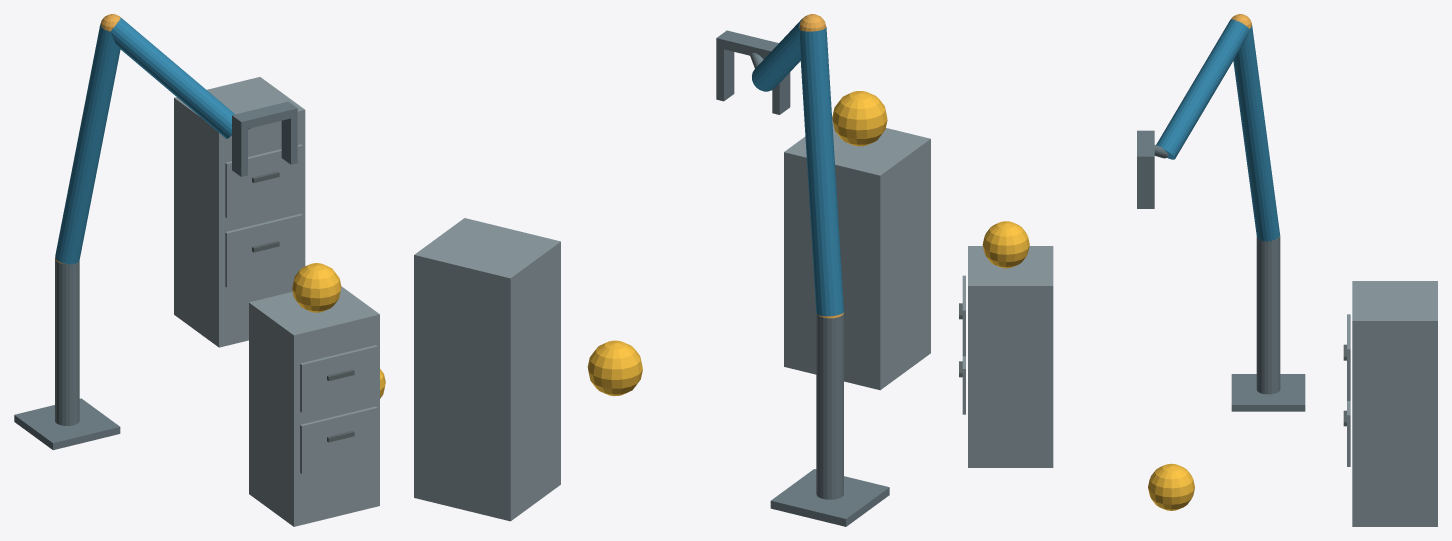
3 renders of one model, left to right at view 1: azimuth 30°, elevation 25°; view 2: azimuth 150°, elevation 25°; view 3: azimuth 270°, elevation 25°, orthographic. The views are drawn at different scales.
Visible parts, largest first — view 1: cabinet_1 body, cabinet_2 body, moving link 1, cabinet_2 drawer front, fixed post, moving link 2, cabinet_2 drawer front.001, cabinet_1 drawer front, cabinet_1 drawer front.001, pedestal, released ball_1, gripper bridge (+2 smaller); view 2: cabinet_2 body, cabinet_1 body, moving link 1, fixed post, pedestal, ball ball_2, released ball_1, moving link 2, gripper bridge, gripper finger 1, gripper finger -1; view 3: cabinet_2 body, cabinet_1 body, moving link 1, fixed post, moving link 2, pedestal, released ball_1, ball ball_2, gripper finger 1, gripper bridge.
Part boxes in pixels (left/top/right/bottom): cabinet_1 body: left=249, top=286, right=379, bottom=526; cabinet_2 body: left=174, top=77, right=305, bottom=347; moving link 1: left=55, top=23, right=120, bottom=264; cabinet_2 drawer front: left=225, top=213, right=302, bottom=287; fixed post: left=55, top=260, right=79, bottom=425; moving link 2: left=110, top=17, right=234, bottom=138; cabinet_2 drawer front.001: left=225, top=144, right=302, bottom=218; cabinet_1 drawer front: left=300, top=406, right=377, bottom=473; cabinet_1 drawer front.001: left=300, top=345, right=377, bottom=412; pedestal: left=14, top=398, right=120, bottom=450; released ball_1: left=292, top=263, right=341, bottom=312; gripper bridge: left=232, top=101, right=297, bottom=130; cabinet_2 body: left=414, top=218, right=560, bottom=521; cabinet_1 body: left=784, top=117, right=930, bottom=390; moving link 1: left=799, top=26, right=843, bottom=316; fixed post: left=816, top=313, right=843, bottom=499; pedestal: left=770, top=469, right=889, bottom=526; ball ball_2: left=587, top=340, right=642, bottom=396; released ball_1: left=832, top=91, right=887, bottom=146; moving link 2: left=752, top=18, right=802, bottom=91; gripper bridge: left=716, top=30, right=778, bottom=58; gripper finger 1: left=716, top=47, right=734, bottom=101; gripper finger -1: left=772, top=72, right=790, bottom=114; cabinet_2 body: left=1352, top=281, right=1437, bottom=526; cabinet_1 body: left=968, top=246, right=1053, bottom=467; moving link 1: left=1233, top=25, right=1279, bottom=241; fixed post: left=1256, top=236, right=1280, bottom=394; moving link 2: left=1156, top=19, right=1249, bottom=159; pedestal: left=1231, top=374, right=1305, bottom=411; released ball_1: left=982, top=221, right=1029, bottom=268; ball ball_2: left=1148, top=463, right=1194, bottom=510; gripper finger 1: left=1137, top=165, right=1154, bottom=208; gripper bridge: left=1137, top=130, right=1154, bottom=164.
Bounding box in the file's own units: 1.17 × 1.48 × 1.62.
